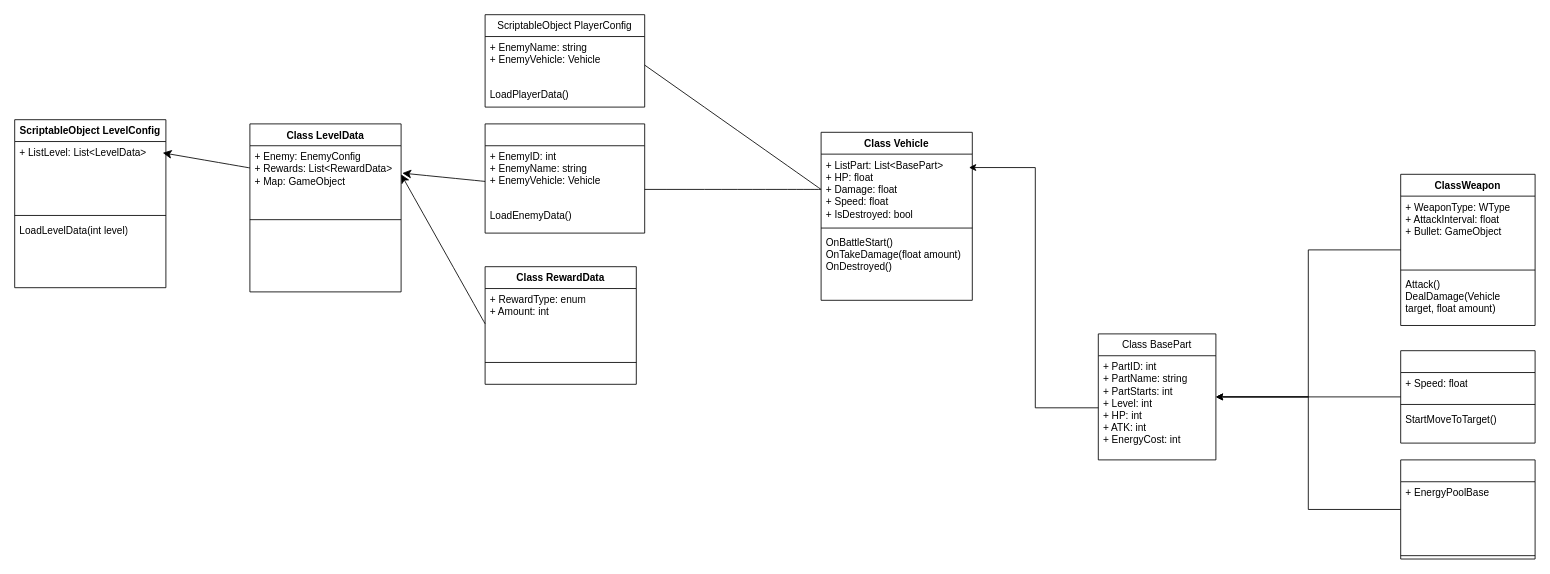
Some shapes in this 1550 by 574 pixel diagram are drawn without their labels. Each missing label, with the box of its shape:
ClassBody: (1400, 459, 1535, 559)
ClassWheel: (1400, 350, 1535, 443)
ScriptableObject EnemyConfig: (484, 123, 645, 233)
